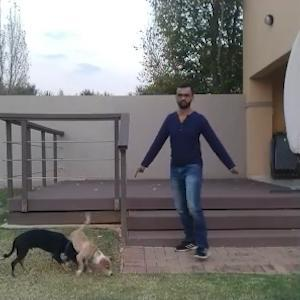land: (137, 85, 245, 262)
